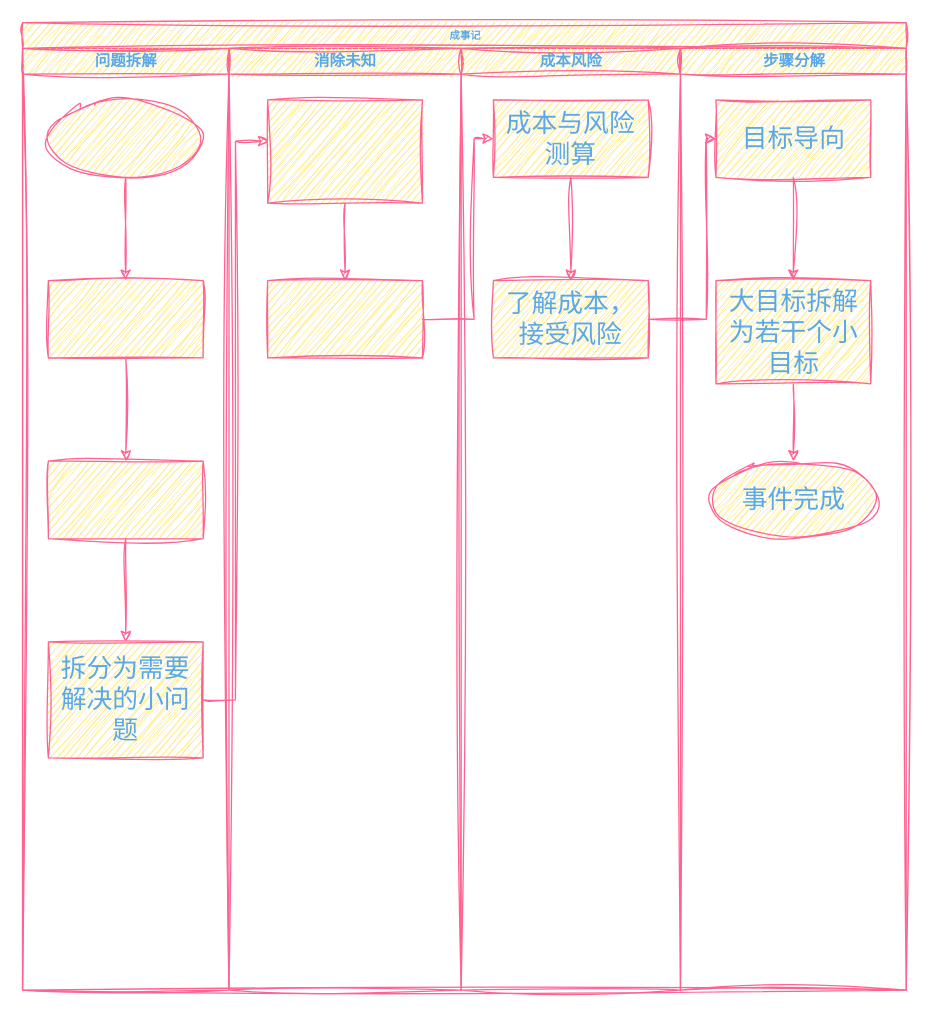
Image size: 929x1013. Some labels were removed from this diagram. The centre of each missing label's shape, as x and y in pixels:
"事情开始" goes at point 125,138.
"对每个小问题进行未知信息的消除" goes at point 344,151.
"尽调" goes at point 344,318.
"怎么做才能达成目标？" goes at point 125,318.
"收集信息/深入思考" goes at point 125,499.
